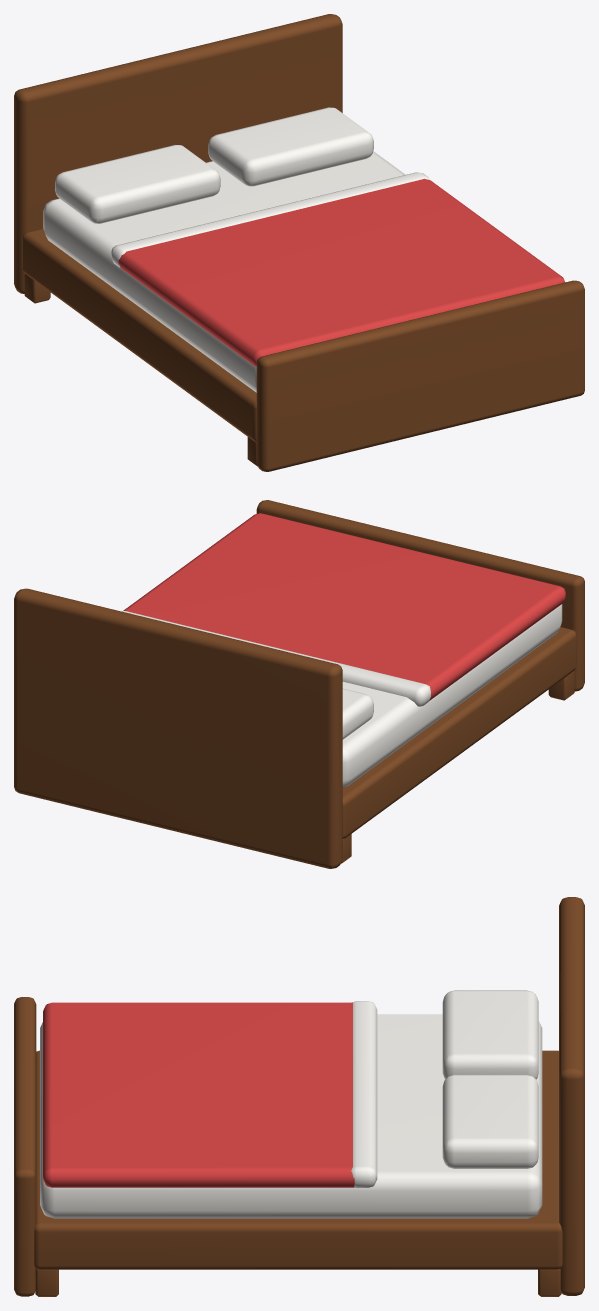
The model's file is DoubleBed.fbx.
3 renders of one model, top to bottom at view 1: azimuth 30°, elevation 25°; view 2: azimuth 150°, elevation 25°; view 3: azimuth 270°, elevation 25°, orthographic. The views are drawn at different scales.
Parts seen in each view (by area): view 1: DoubleBed; view 2: DoubleBed; view 3: DoubleBed.
Part boxes in pixels (x1,y1,x2,y2): DoubleBed: (14,14,584,471); DoubleBed: (14,500,584,868); DoubleBed: (14,897,584,1296).
Size of the model in its own units: 5.7 by 3.4 by 7.73.
1 material, 1 textured.
